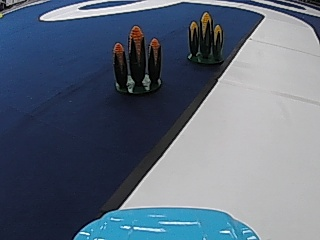corn: (111, 26, 165, 95), (185, 9, 226, 63)
